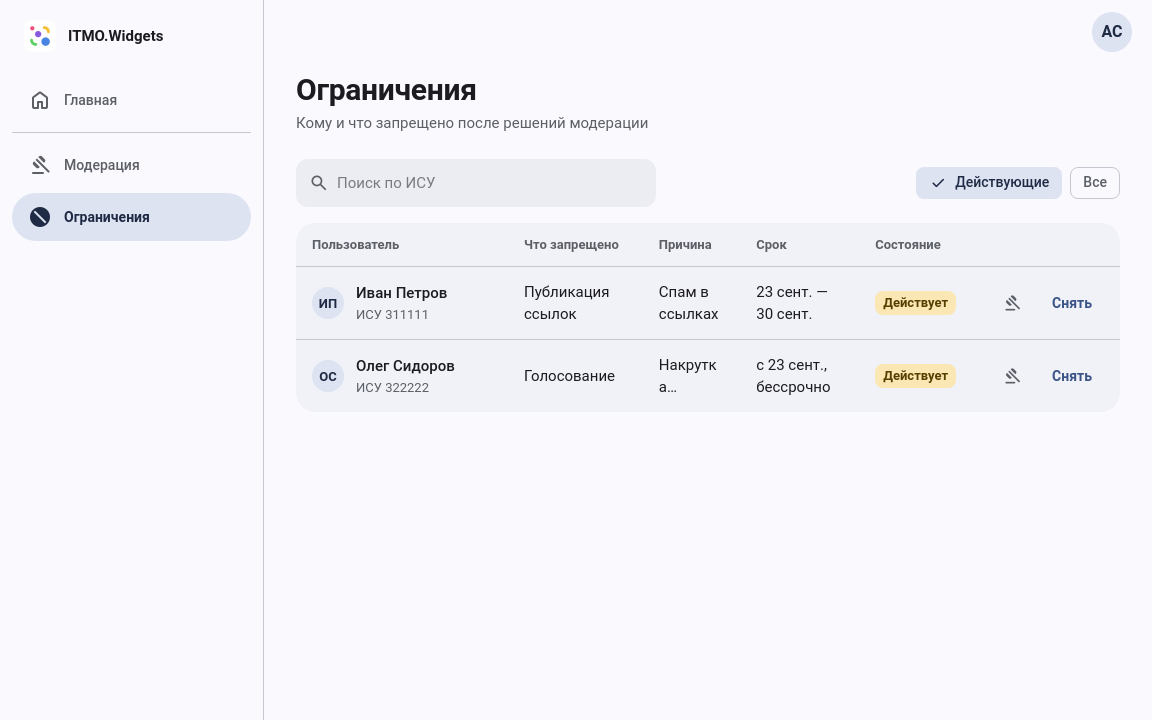
Scenario: RestrictionsPage › finds restrictions by ISU
expect the row "Олег Сидоров" is shown: met, box [296, 340, 1120, 412]
Step 1. Type "322222" into the field labelled "ИСУ" → coordinates (492, 182), box [329, 160, 655, 206]
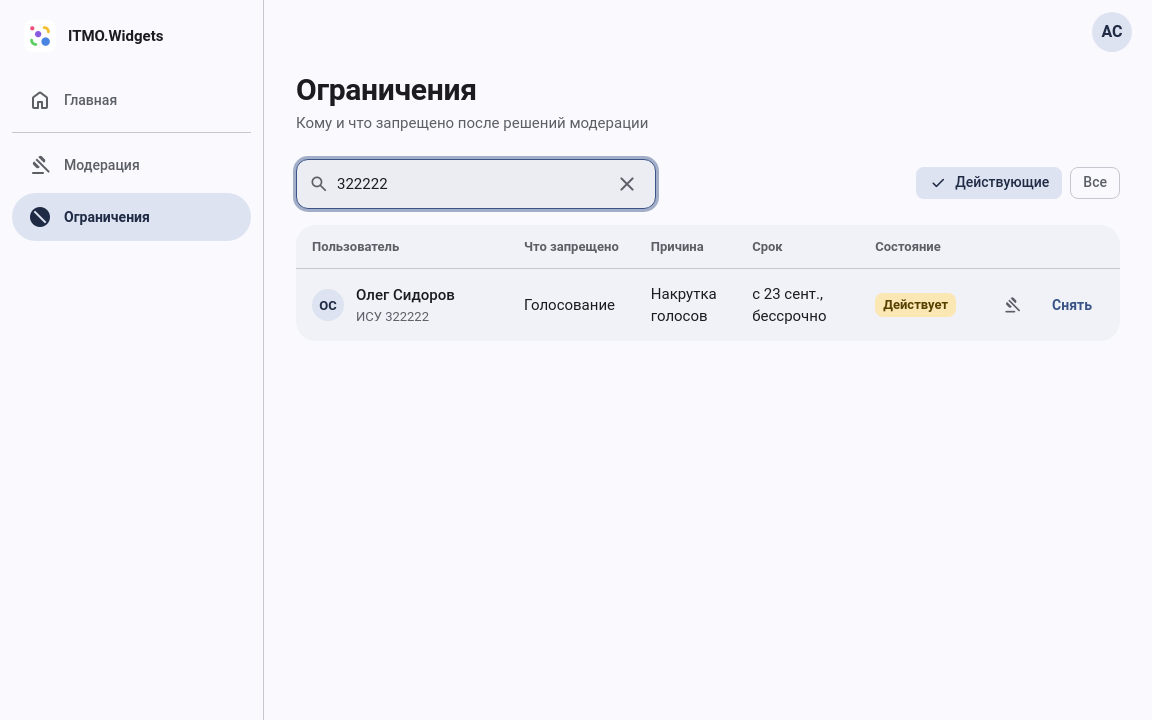
expect the row "Олег Сидоров" is shown: met, box [296, 269, 1120, 341]
expect the text "Иван Петров" is gone: met
